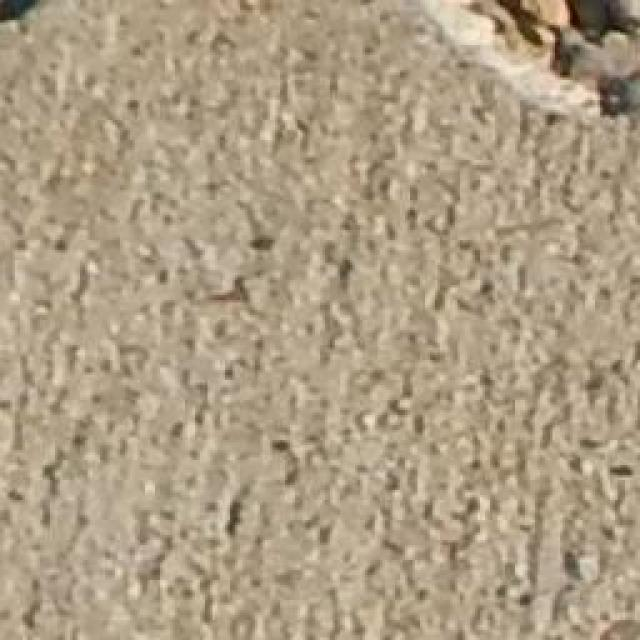concrete-crack: (457, 0, 640, 129), (2, 0, 56, 28)
